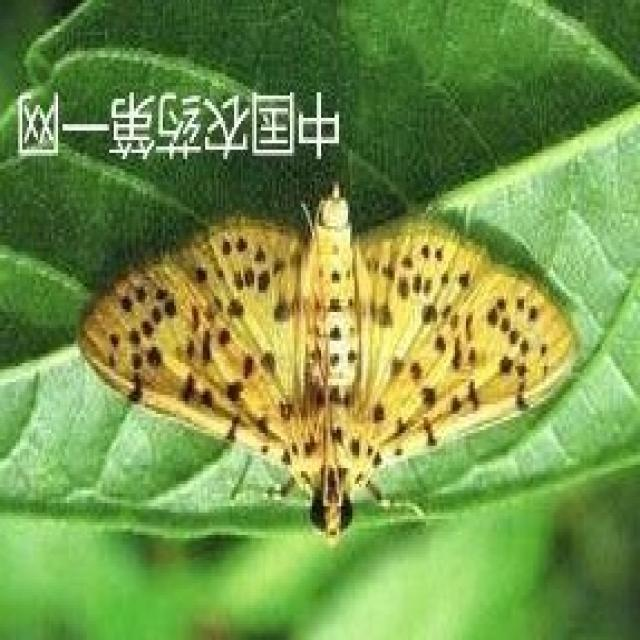peach borer: (69, 179, 584, 549)
